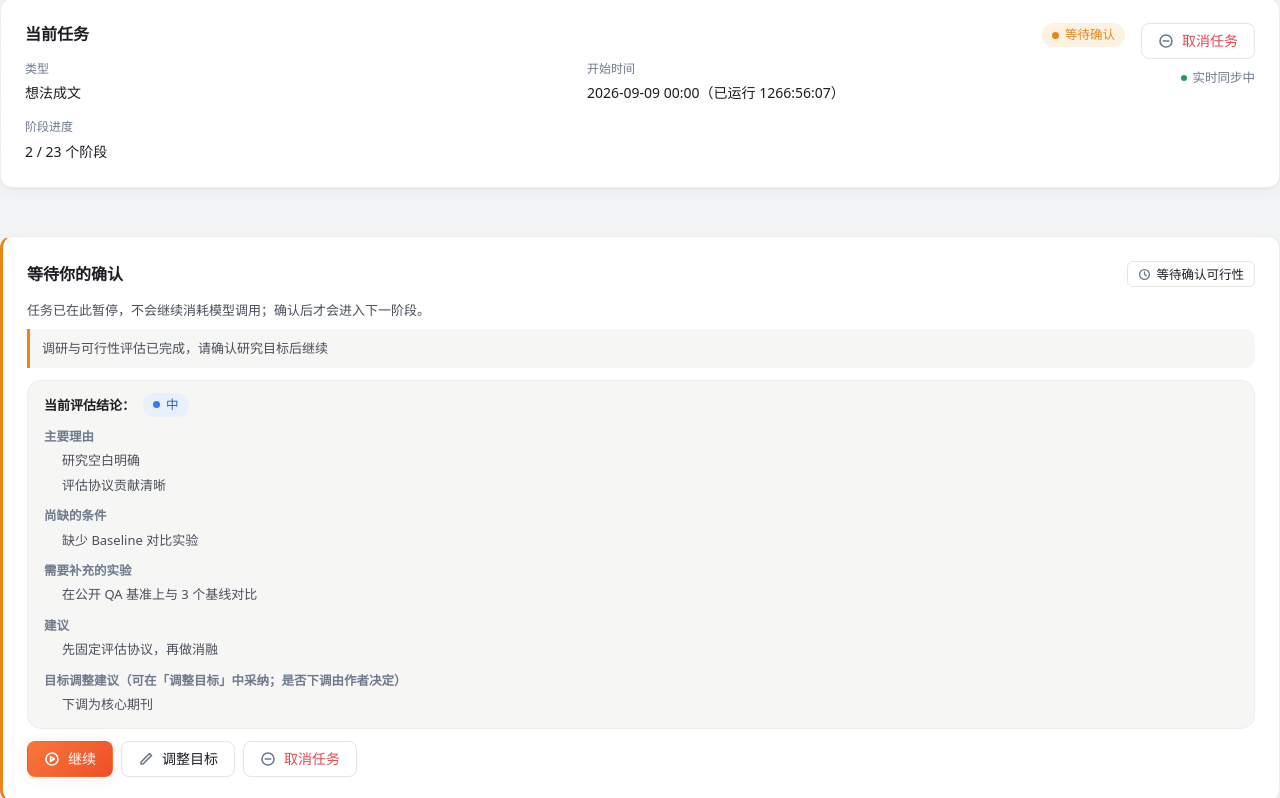
Test: HitlPanel：决策提交 › 过期请求（409 WORKFLOW_INVALID_STATE）：展示错误 + 失效 run 列表取权威状态
Click the button with test id "hitl-approve".
click(70, 758)  # box left=27, top=740, right=113, bottom=776
(page scrolled)
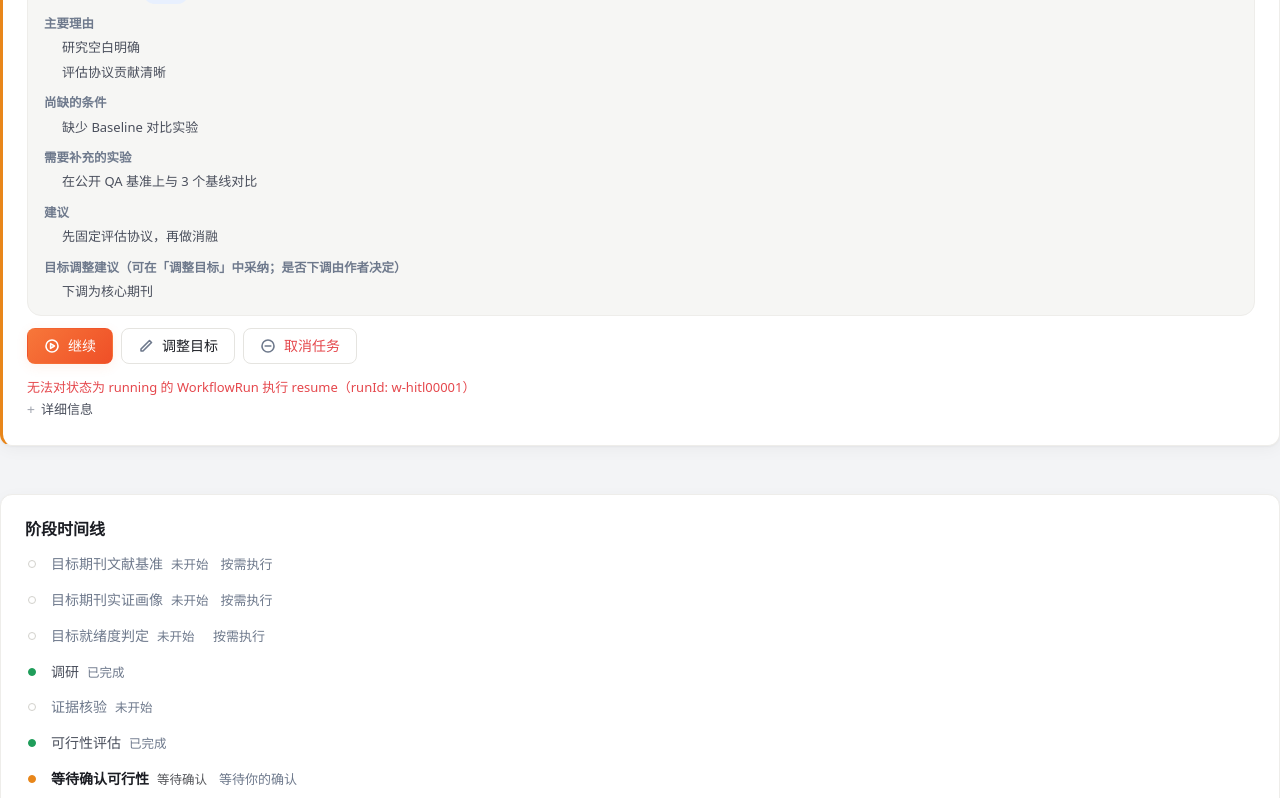
Check: the message with test id "hitl-error" shows "无法对状态为 running", box left=27, top=378, right=476, bottom=396
